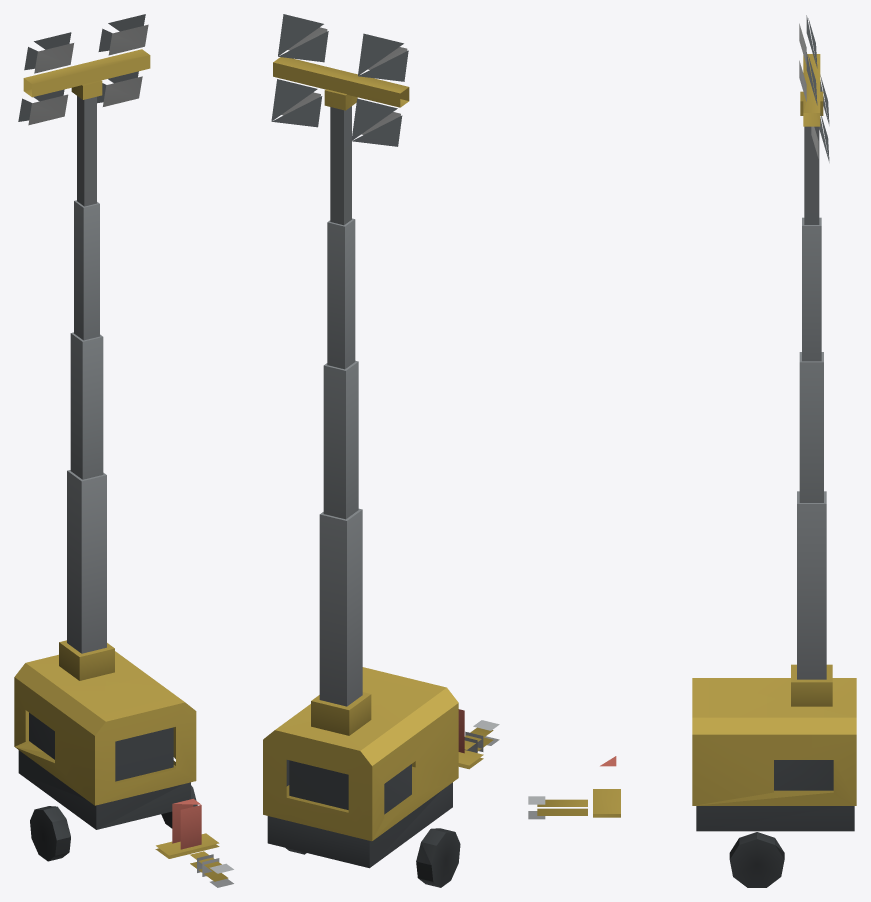
Rendered from lighttower.lod.glb.
The picture shows the model from 3 angles, left to right: view 1: azimuth 30°, elevation 25°; view 2: azimuth 150°, elevation 25°; view 3: azimuth 270°, elevation 25°; orthographic projection. The views are drawn at different scales.
Parts seen in each view (by area): view 1: lighttower; view 2: lighttower; view 3: lighttower.
Part boxes in pixels (x1=…): lighttower: x1=14, y1=14, x2=233, y2=887; lighttower: x1=263, y1=14, x2=499, y2=887; lighttower: x1=528, y1=15, x2=856, y2=887.
Bounding box in the file's own units: 1.67 × 9 × 3.3.
